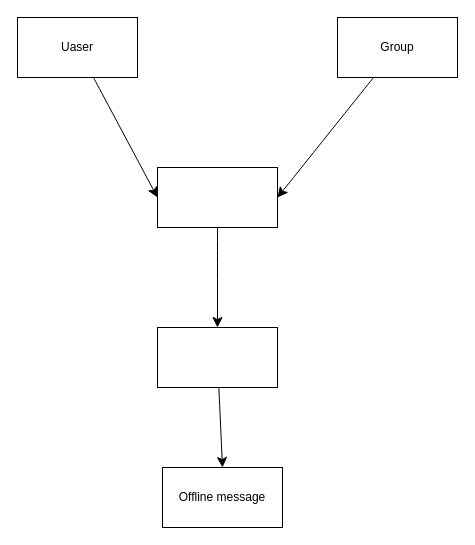
Image size: 475x545. Some labels were removed from this diagram. Each missing label, with the centre of its shape:
"Group message" goes at (x=217, y=357).
"Trung gian giữ group và message" goes at (x=217, y=197).
